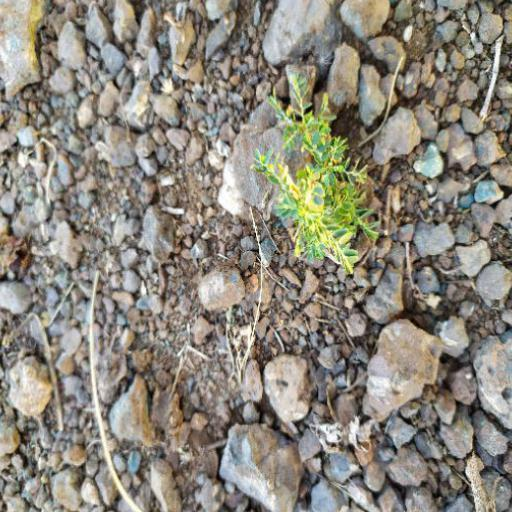weed: (244, 68, 391, 287)
